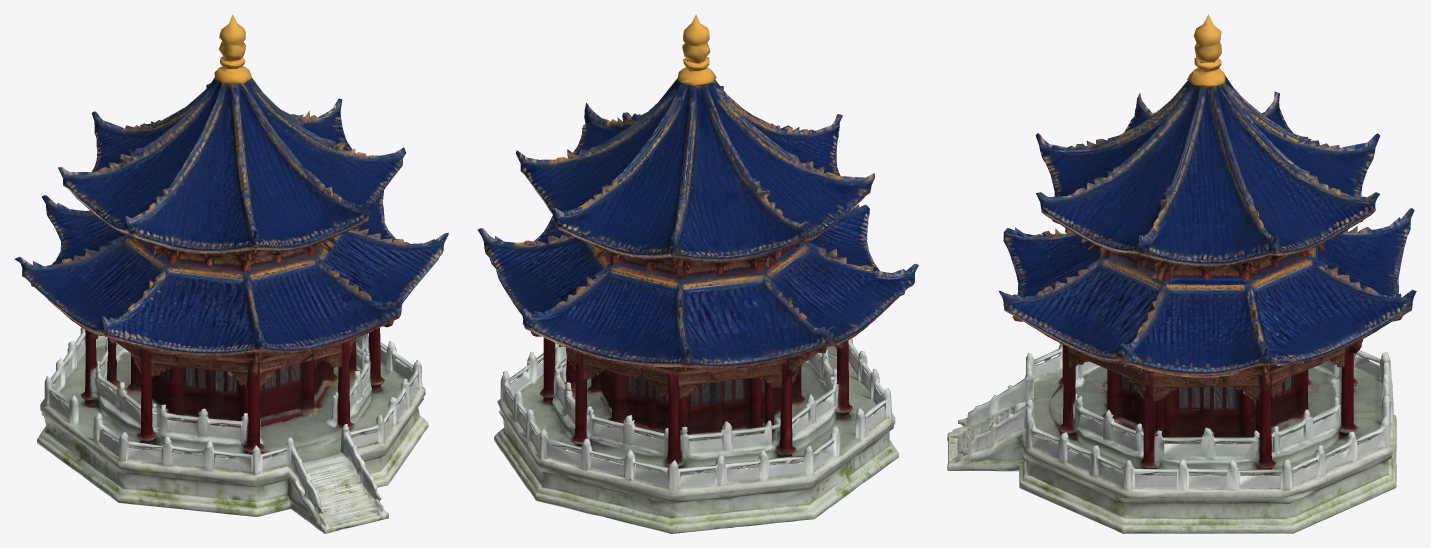
File: cloud_pavilion.glb
3 views of the same model, side by side, from view 1: azimuth 30°, elevation 25°; view 2: azimuth 150°, elevation 25°; view 3: azimuth 270°, elevation 25° (orthographic). The views are drawn at different scales.
Visible parts, largest first — view 1: clean; view 2: clean; view 3: clean.
Part boxes in pixels (<box>): clean: <box>14,14,448,533</box>; clean: <box>477,14,918,533</box>; clean: <box>947,14,1416,533</box>.
Bounding box in the file's own units: 134 × 150 × 145.
Materials: 1 (1 with a texture image).
